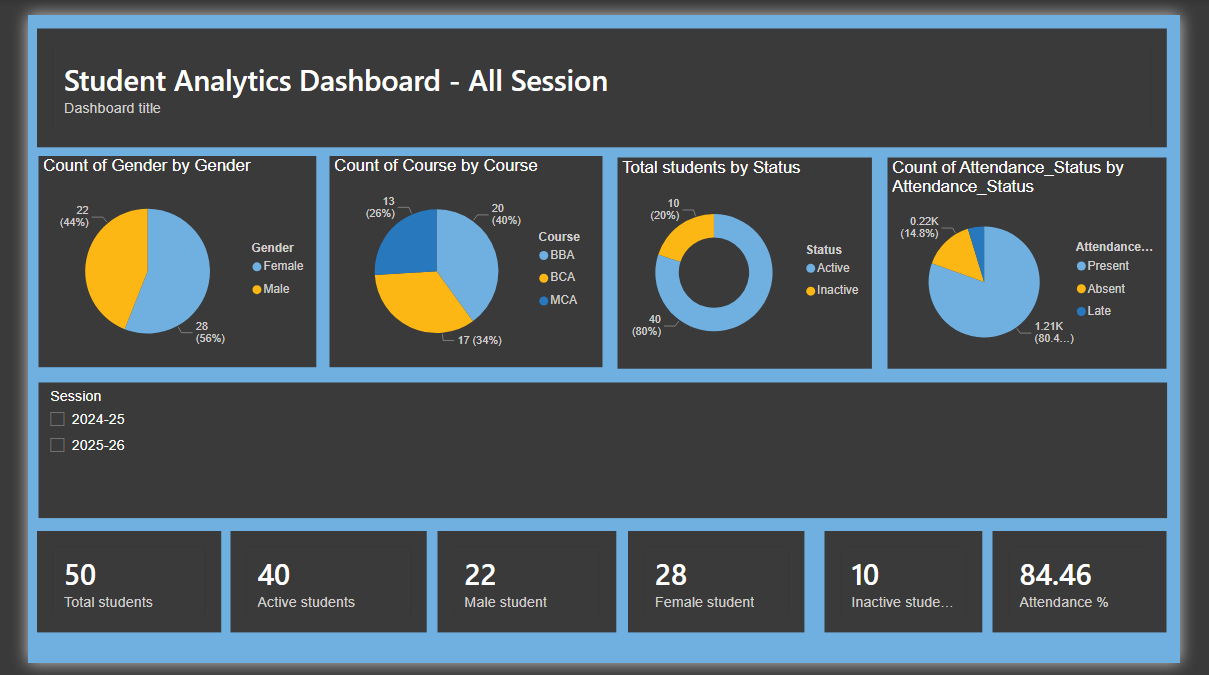

Layout of this report page (visuals, bound fields, positions):
{"tool":"powerbi","page":{"name":"Page 1","canvas":[1280,720],"ordinal":0},"visuals":[{"type":"cardVisual","fields":{"Data":["Students.Inactive students"]},"box":[885.1,573.6,175.6,112.5],"z":0},{"type":"cardVisual","fields":{"Data":["Attendance.Total students"]},"box":[9.6,573.6,204.5,112.5],"z":1000},{"type":"cardVisual","fields":{"Data":["Students.Female student"]},"box":[666.9,573.6,196.2,112.5],"z":2000},{"type":"cardVisual","fields":{"Data":["Students.Male student"]},"box":[455.6,573.6,199,112.5],"z":3000},{"type":"cardVisual","fields":{"Data":["Students.Active students"]},"box":[225,573.6,218.2,112.5],"z":4000},{"type":"pieChart","fields":{"Category":["Students.Gender"],"Y":["CountNonNull(Students.Gender)"]},"box":[11,156.4,308.7,234.6],"z":5000},{"type":"pieChart","fields":{"Category":["Students.Course"],"Y":["CountNonNull(Students.Course)"]},"box":[334.8,156.4,303.3,234.6],"z":6000},{"type":"donutChart","fields":{"Category":["Students.Status"],"Y":["Attendance.Total students"]},"box":[654.5,157.8,282.7,234.6],"z":7000},{"type":"cardVisual","fields":{"Data":["Students.Dashboard title"]},"box":[9.6,15.1,1255.6,131.7],"z":8000},{"type":"slicer","fields":{"Values":["Students.Session"]},"box":[11,407.5,1254.2,150.9],"z":9000},{"type":"cardVisual","fields":{"Data":["Attendance.Attendance %"]},"box":[1071.7,573.6,193.5,112.5],"z":10000},{"type":"pieChart","fields":{"Category":["Attendance.Attendance_Status"],"Y":["CountNonNull(Attendance.Attendance_Status)"]},"box":[955.1,157.8,310.1,234.6],"z":11000}]}

Visuals, with their boxes in screenshot pixels (x1, y1, x2, y2), scaled from the page's 1280x720 canvas onto the 1209x675 screenshot:
cardVisual - Students.Inactive students: bbox(836, 538, 1002, 643)
cardVisual - Attendance.Total students: bbox(9, 538, 202, 643)
cardVisual - Students.Female student: bbox(630, 538, 815, 643)
cardVisual - Students.Male student: bbox(430, 538, 618, 643)
cardVisual - Students.Active students: bbox(213, 538, 419, 643)
pieChart - Students.Gender x CountNonNull(Students.Gender): bbox(10, 147, 302, 367)
pieChart - Students.Course x CountNonNull(Students.Course): bbox(316, 147, 603, 367)
donutChart - Students.Status x Attendance.Total students: bbox(618, 148, 885, 368)
cardVisual - Students.Dashboard title: bbox(9, 14, 1195, 138)
slicer - Students.Session: bbox(10, 382, 1195, 524)
cardVisual - Attendance.Attendance %: bbox(1012, 538, 1195, 643)
pieChart - Attendance.Attendance_Status x CountNonNull(Attendance.Attendance_Status): bbox(902, 148, 1195, 368)
